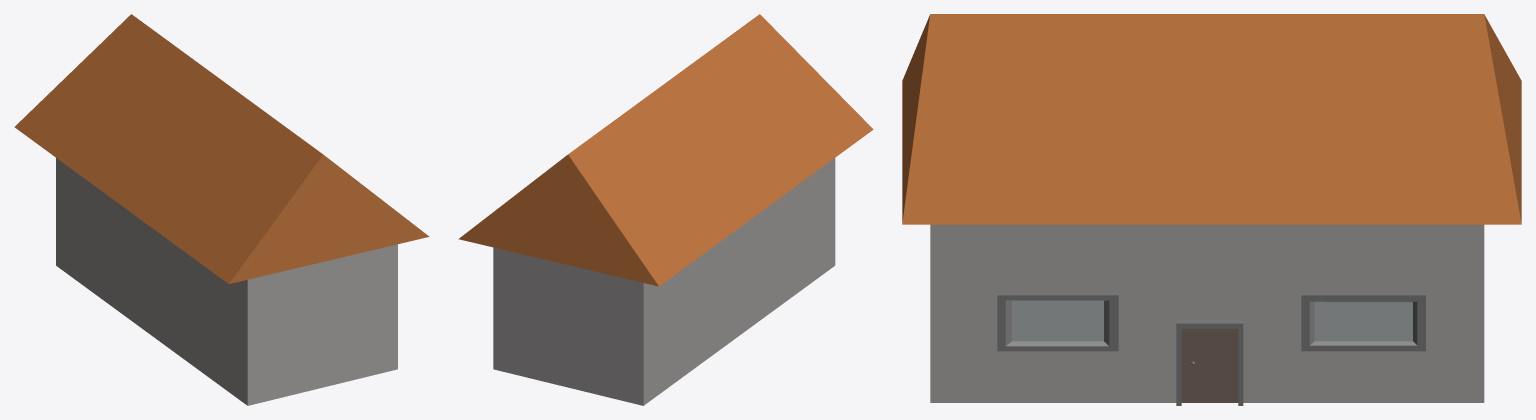
File: Small1.fbx
3 views of the same model, side by side, from view 1: azimuth 30°, elevation 25°; view 2: azimuth 150°, elevation 25°; view 3: azimuth 270°, elevation 25° (orthographic). The views are drawn at different scales.
Parts seen in each view (by area): view 1: pCube2; view 2: pCube2; view 3: pCube2.
Boxes of the visible parts, x1=… form: pCube2: x1=14, y1=14, x2=429, y2=405; pCube2: x1=458, y1=14, x2=873, y2=405; pCube2: x1=902, y1=14, x2=1521, y2=405.
Size of the model in its own units: 7.99 by 8.86 by 14.79.
